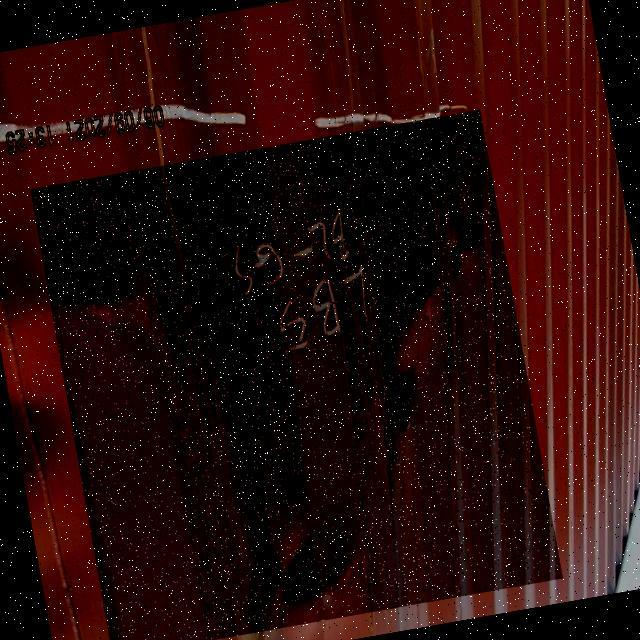Dent: (29, 109, 562, 640)
